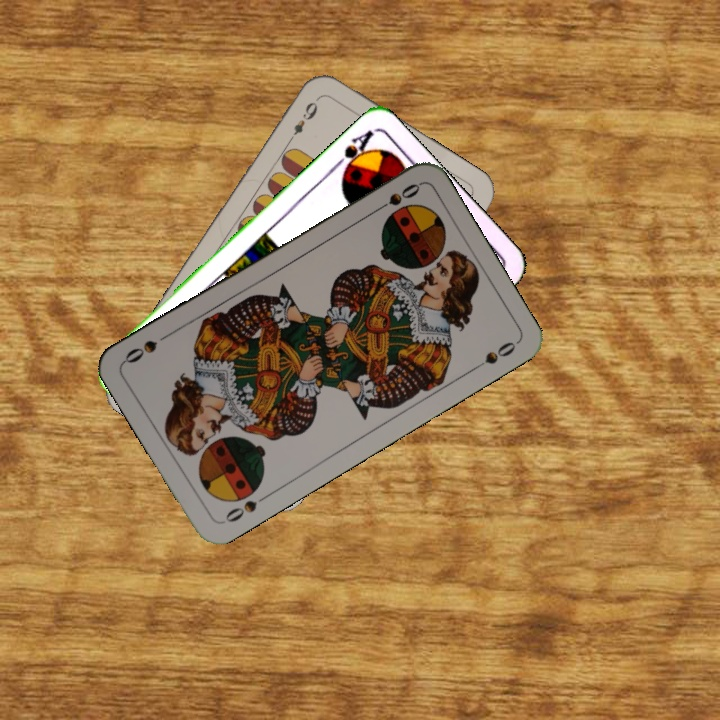E9: (283, 94, 322, 146)
SA: (328, 125, 376, 180)
SO: (369, 179, 423, 216), (218, 490, 272, 527)
